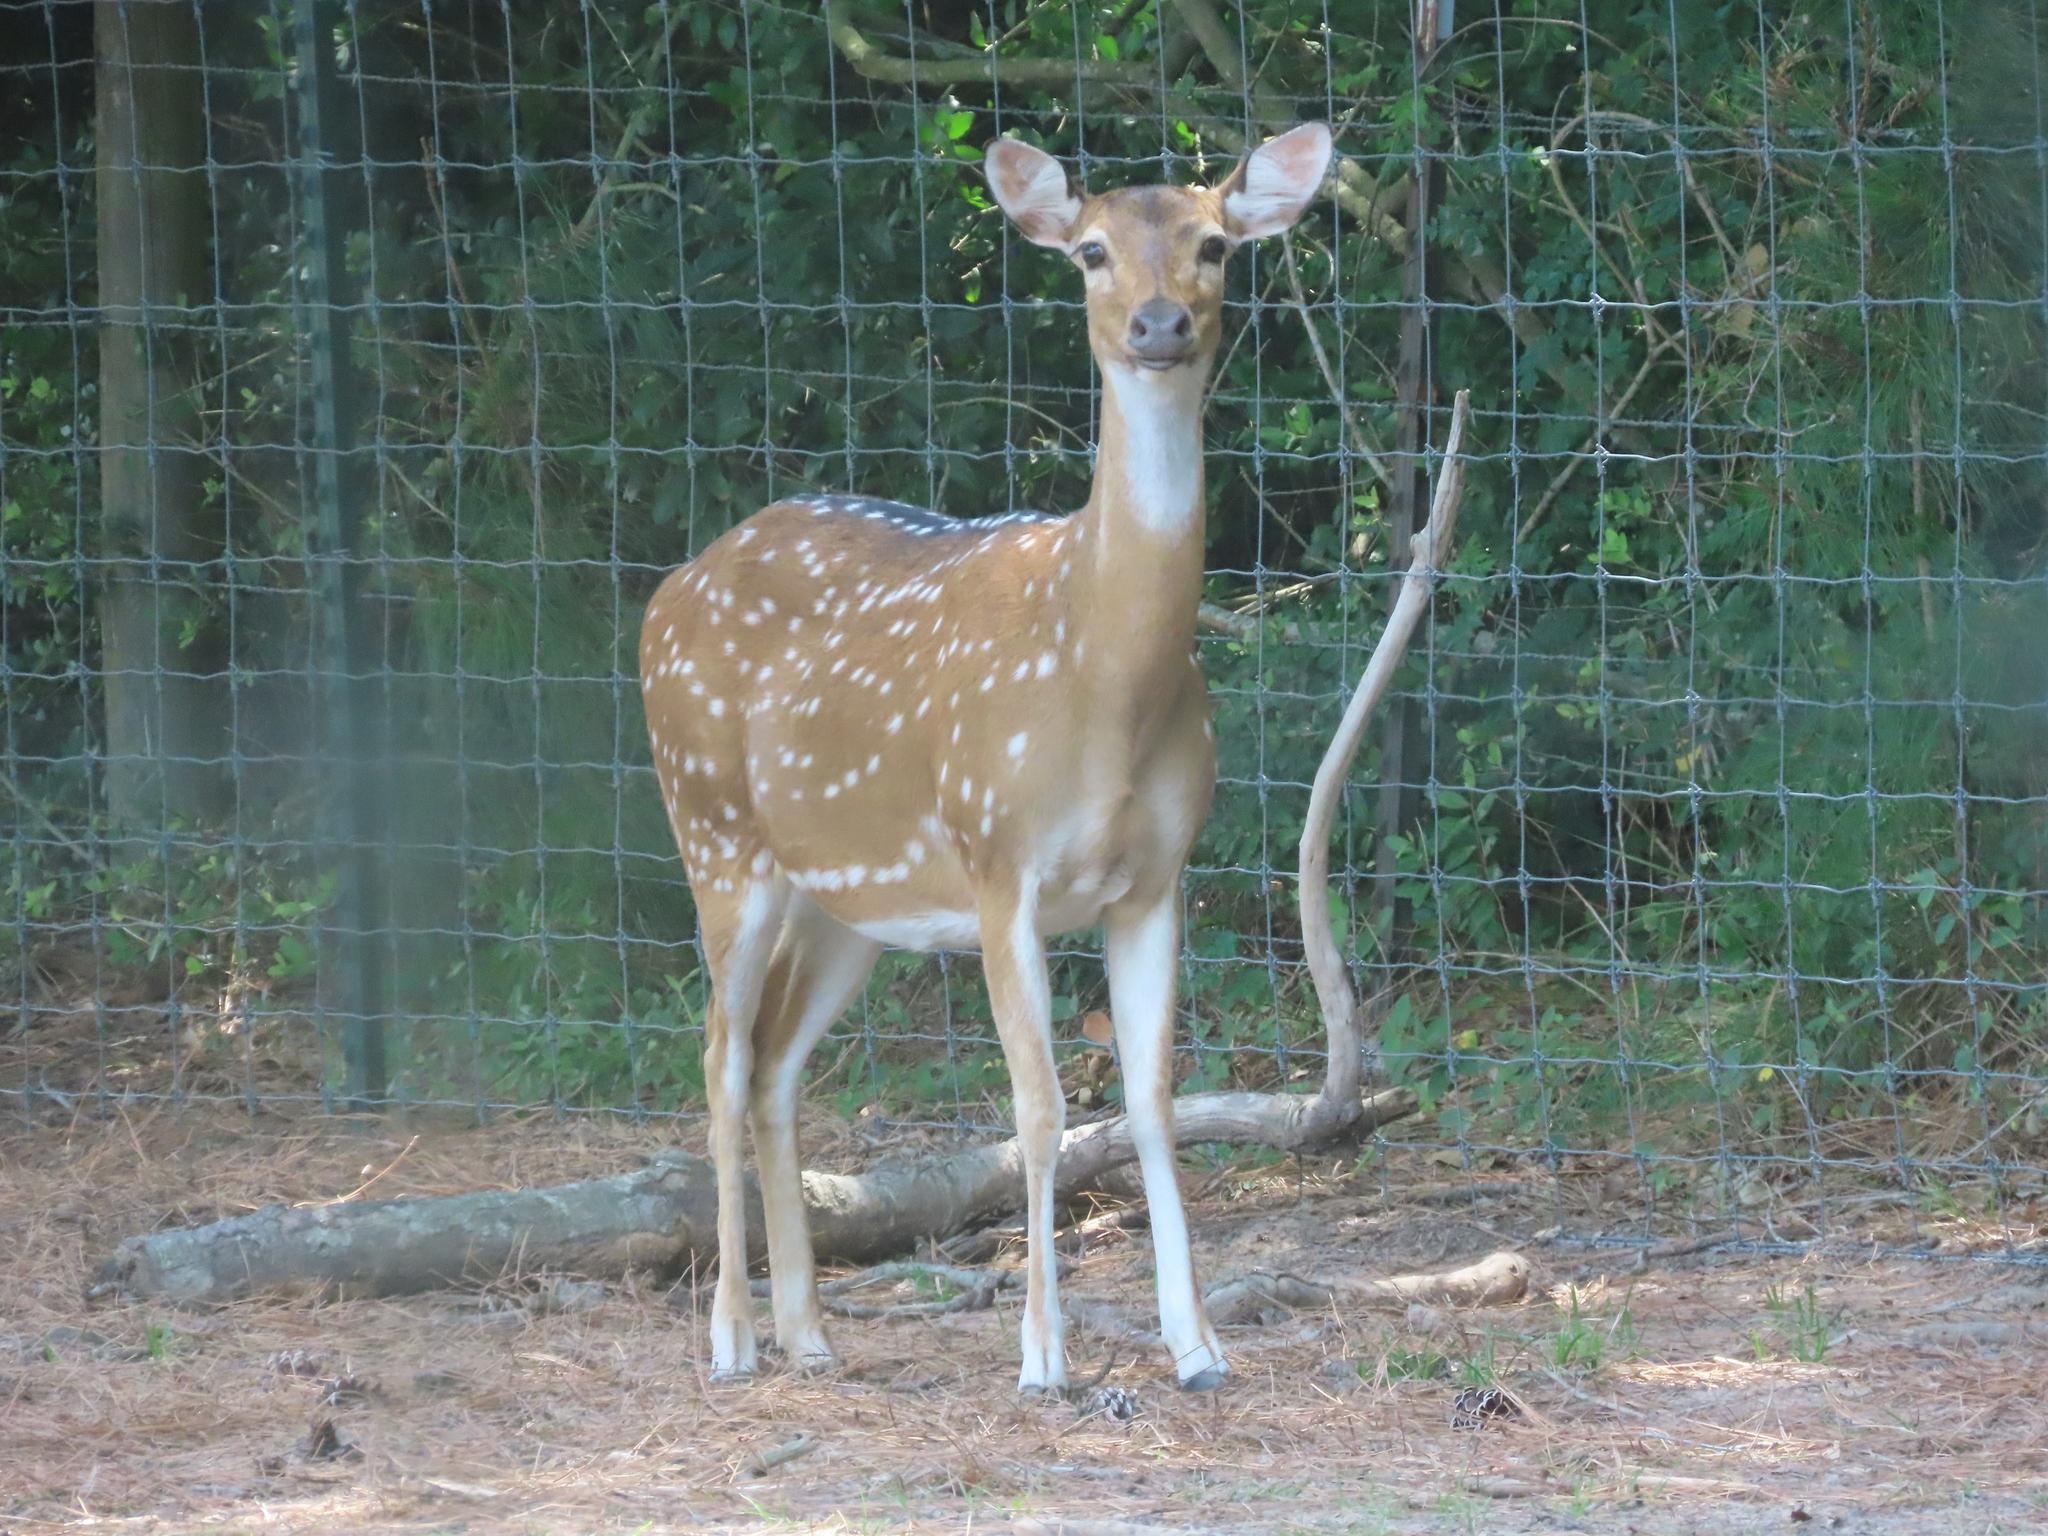Deer: (640, 123, 1334, 1391)
